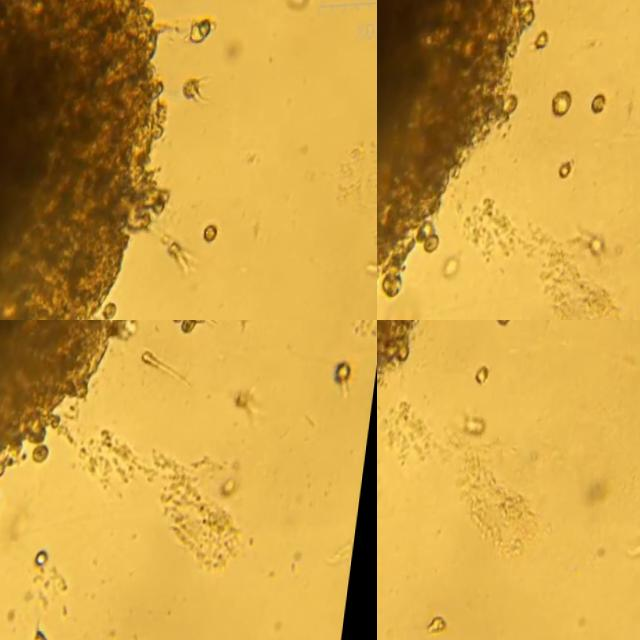cell: (147, 361, 197, 392), (183, 85, 208, 111), (191, 320, 225, 336), (558, 97, 577, 125), (594, 248, 615, 272), (40, 450, 57, 469), (598, 101, 611, 125), (341, 374, 354, 398), (44, 555, 60, 574), (500, 320, 518, 336), (439, 626, 459, 640), (189, 31, 202, 52), (538, 39, 552, 58), (209, 234, 223, 252), (199, 28, 212, 47), (185, 329, 200, 344), (481, 376, 495, 391), (566, 172, 578, 189), (177, 320, 190, 333), (0, 497, 10, 513), (110, 309, 123, 320)
tumor_mass: (377, 0, 539, 300)
